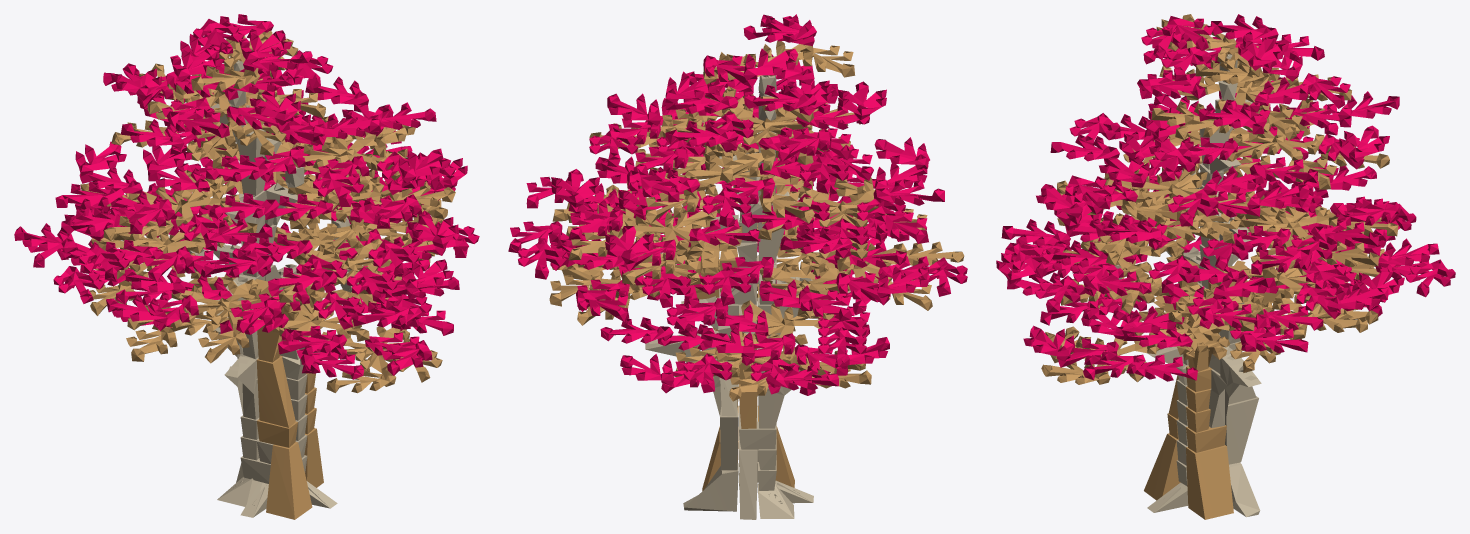
The model's file is tree_lod2.fbx.
3 renders of one model, left to right at view 1: azimuth 30°, elevation 25°; view 2: azimuth 150°, elevation 25°; view 3: azimuth 270°, elevation 25°, orthographic. The views are drawn at different scales.
Visible parts, largest first — view 1: tree_lod2; view 2: tree_lod2; view 3: tree_lod2.
Part boxes in pixels (left/top/right/bottom): tree_lod2: left=14, top=14, right=479, bottom=519; tree_lod2: left=508, top=14, right=967, bottom=519; tree_lod2: left=996, top=14, right=1455, bottom=519.
Bounding box in the file's own units: 297 × 329 × 298.
